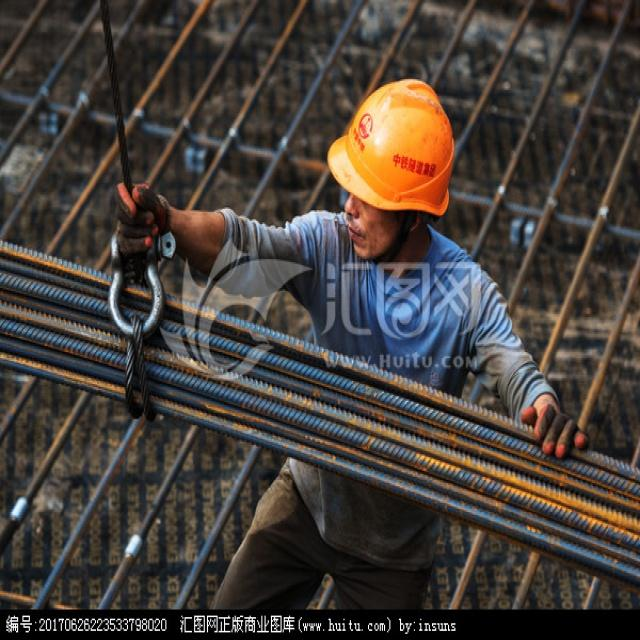helmet: (322, 100, 456, 344)
